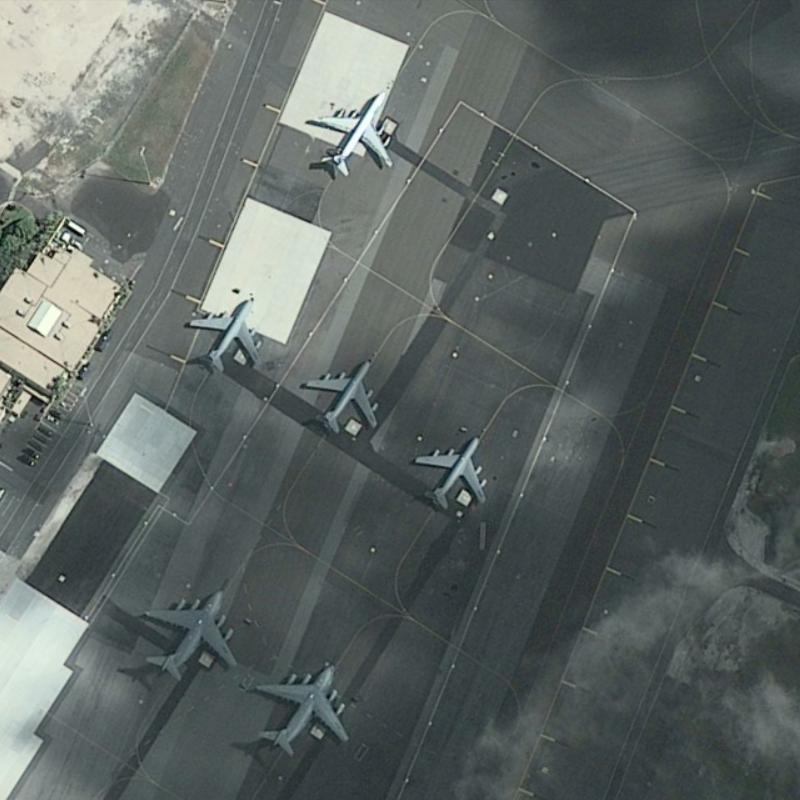A11: (304, 87, 399, 179)
A14: (302, 356, 385, 437), (410, 433, 491, 513), (185, 297, 264, 374)
A3: (138, 587, 242, 685), (252, 662, 353, 761)
